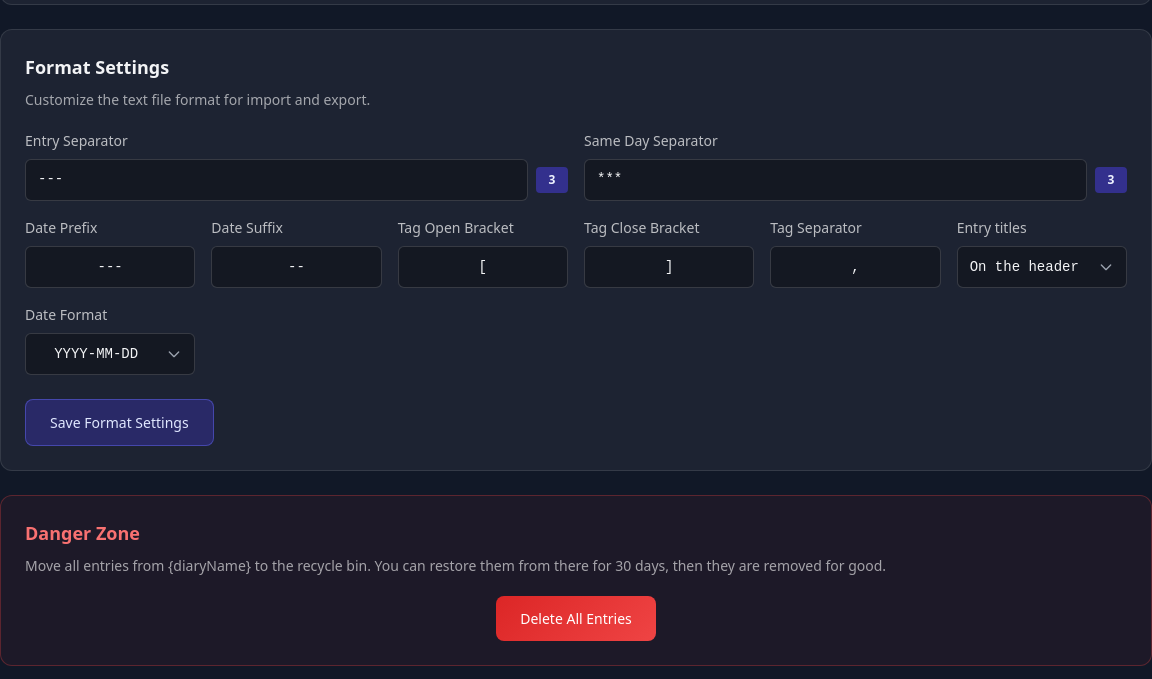
it: ImportExport refusals › shows the reason a refused delete all gives, in en
The image size is (1152, 679).
(page scrolled)
Expected: the button "Save Format Settings" is shown, [25,399,214,446]
What coordinates should you click on to do the following:
click the button "Delete All Entries"
I would click on:
 (576, 619)
Its box is [496,596,656,641].
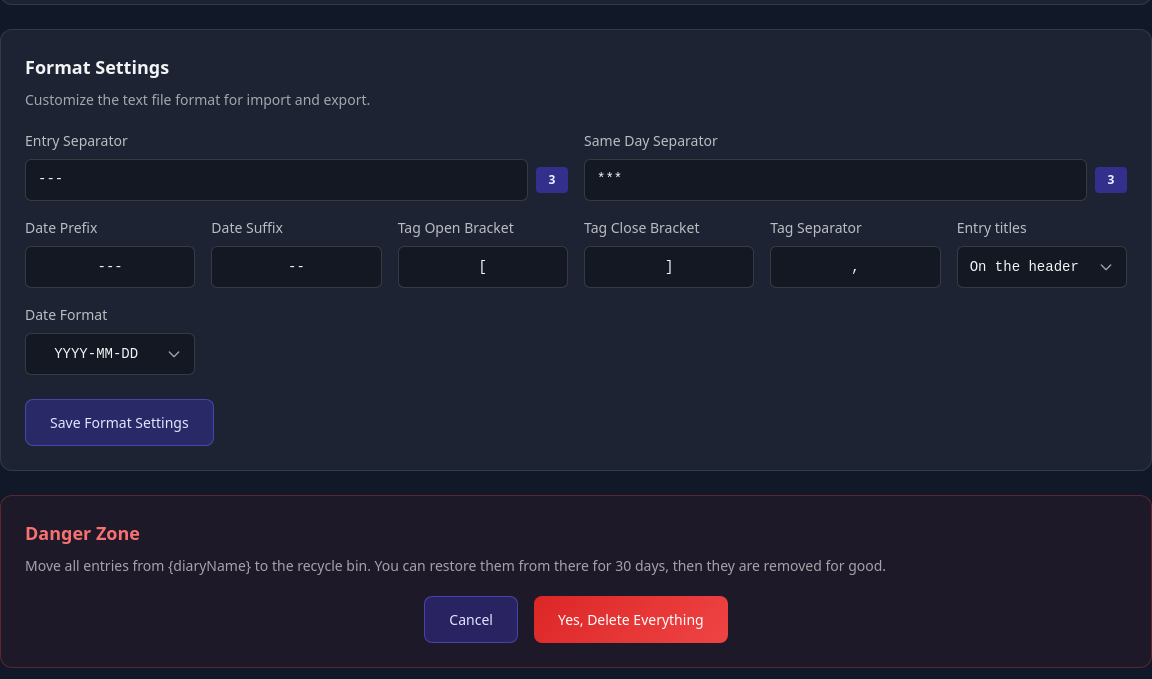
What coordinates should you click on to do the following:
click the button "Yes, Delete Everything"
I would click on:
 (631, 620)
Its box is [534,596,728,643].
(page scrolled)
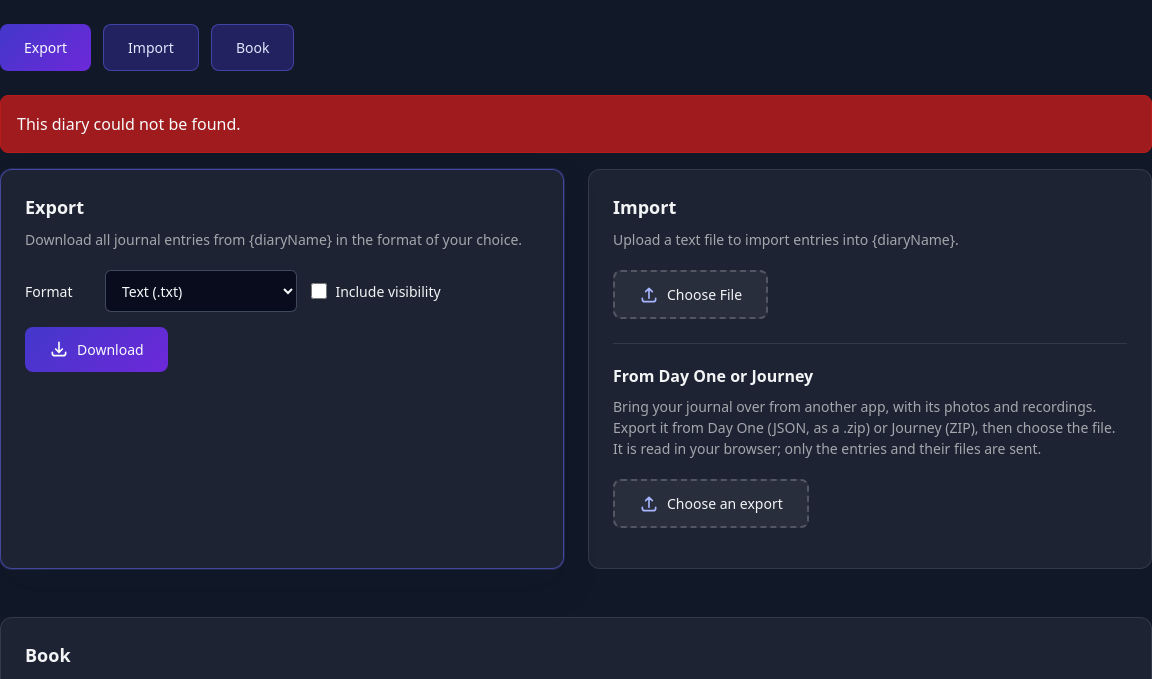
Expected: the text "This diary could not be found." is shown, [0,95,1151,153]
